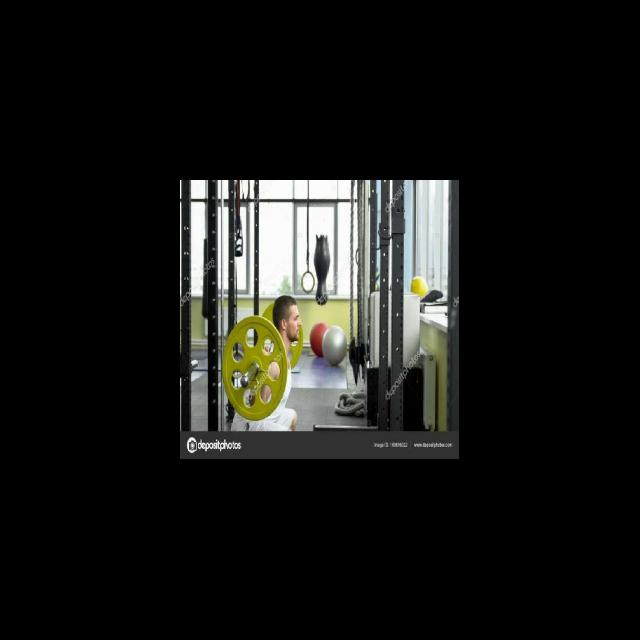barbell: (220, 312, 289, 422)
